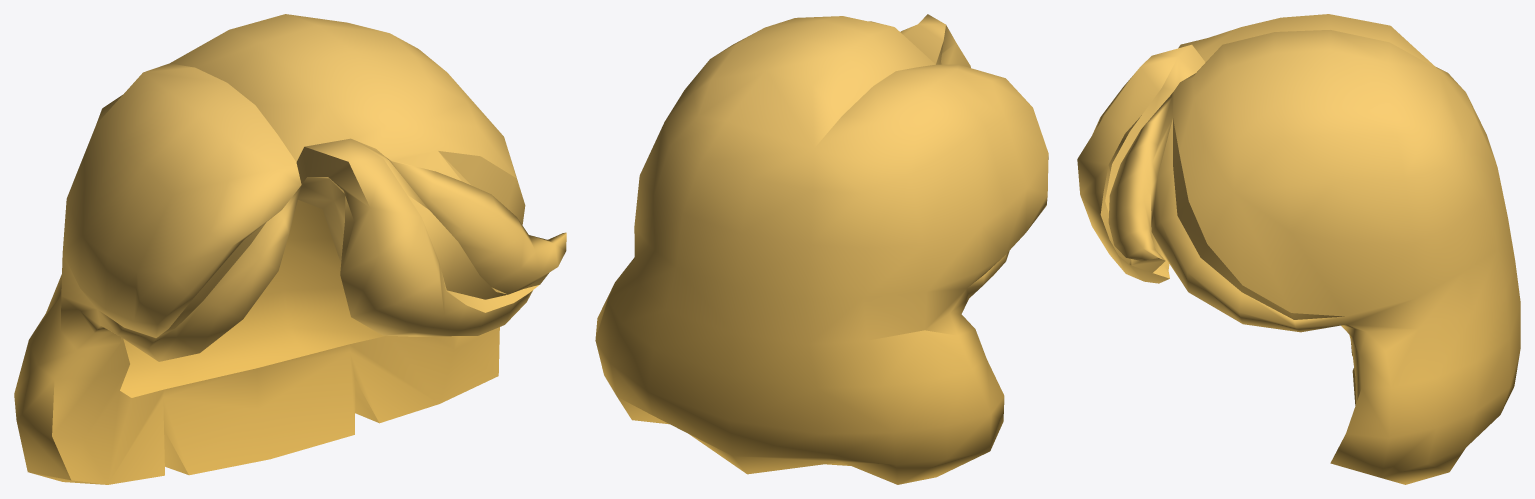
Rendered from Hair_Yellow_7.fbx.
3 views of the same model, side by side, from view 1: azimuth 30°, elevation 25°; view 2: azimuth 150°, elevation 25°; view 3: azimuth 270°, elevation 25° (orthographic). The views are drawn at different scales.
Parts seen in each view (by area): view 1: Hair_Yellow_7; view 2: Hair_Yellow_7; view 3: Hair_Yellow_7.
Part boxes in pixels (<box>): Hair_Yellow_7: <box>14,14,566,484</box>; Hair_Yellow_7: <box>595,14,1048,484</box>; Hair_Yellow_7: <box>1077,14,1520,484</box>.
Bounding box in the file's own units: 67.35 × 62.65 × 64.72.
